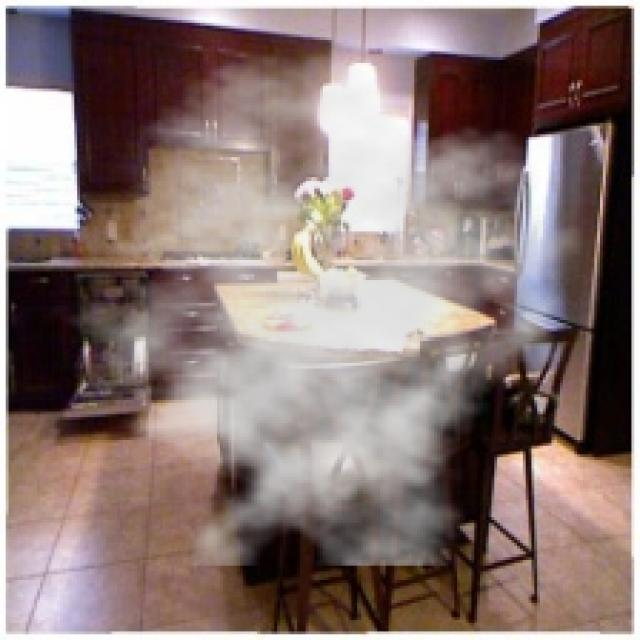smoke: (43, 51, 586, 566)
